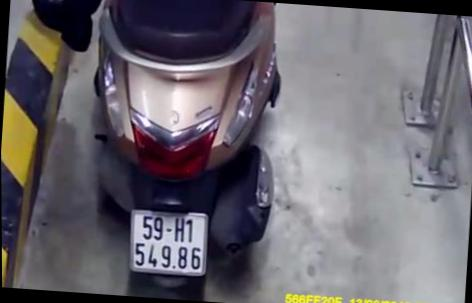LP: (125, 206, 211, 279)
